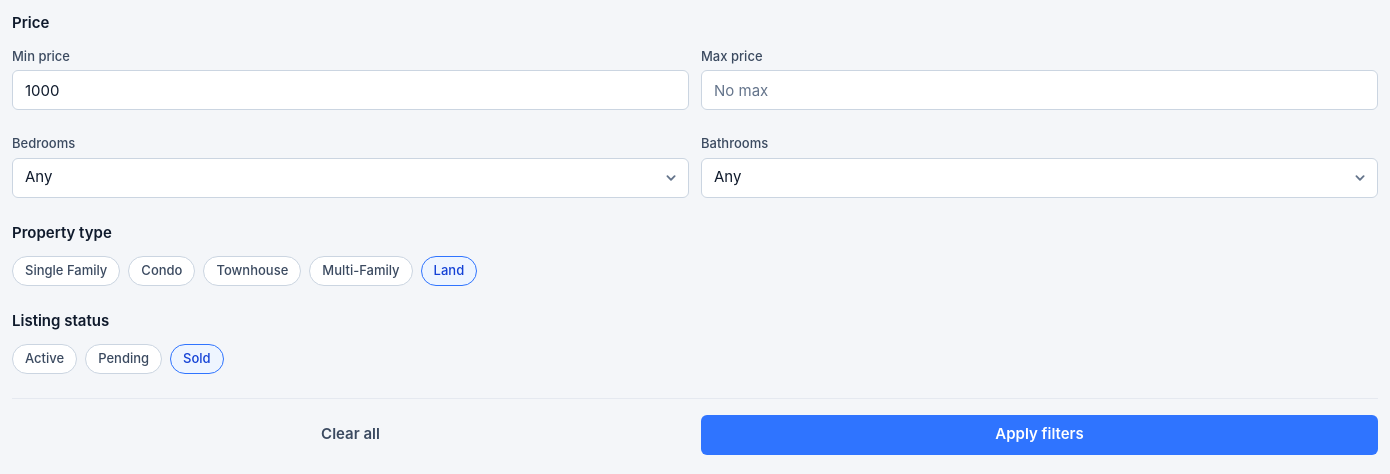
Test case: FilterPanel › clears all filters and syncs the form with the store
Expected: the number field labelled "Min price" holds "1000", x1=12 y1=70 x2=689 y2=110
Expected: the checkbox labelled "Land" is checked, x1=421 y1=256 x2=477 y2=286
Click the button "Clear all". click: (350, 434)
box: x1=12 y1=414 x2=689 y2=454
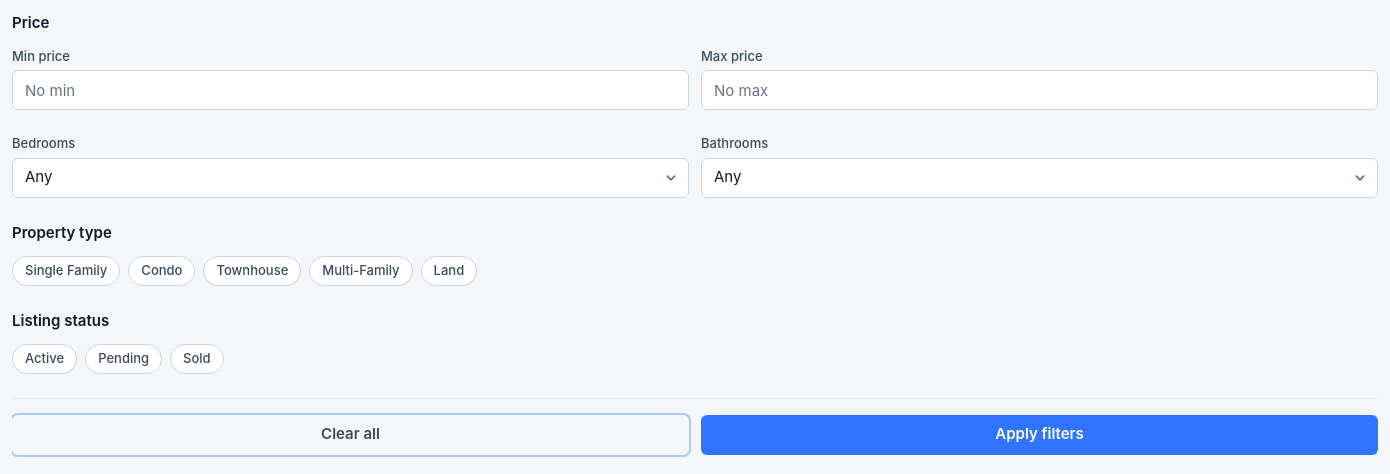
Expected: the number field labelled "Min price" is not empty, x1=12 y1=70 x2=689 y2=110
Expected: the checkbox labelled "Land" is not checked, x1=421 y1=256 x2=477 y2=286
